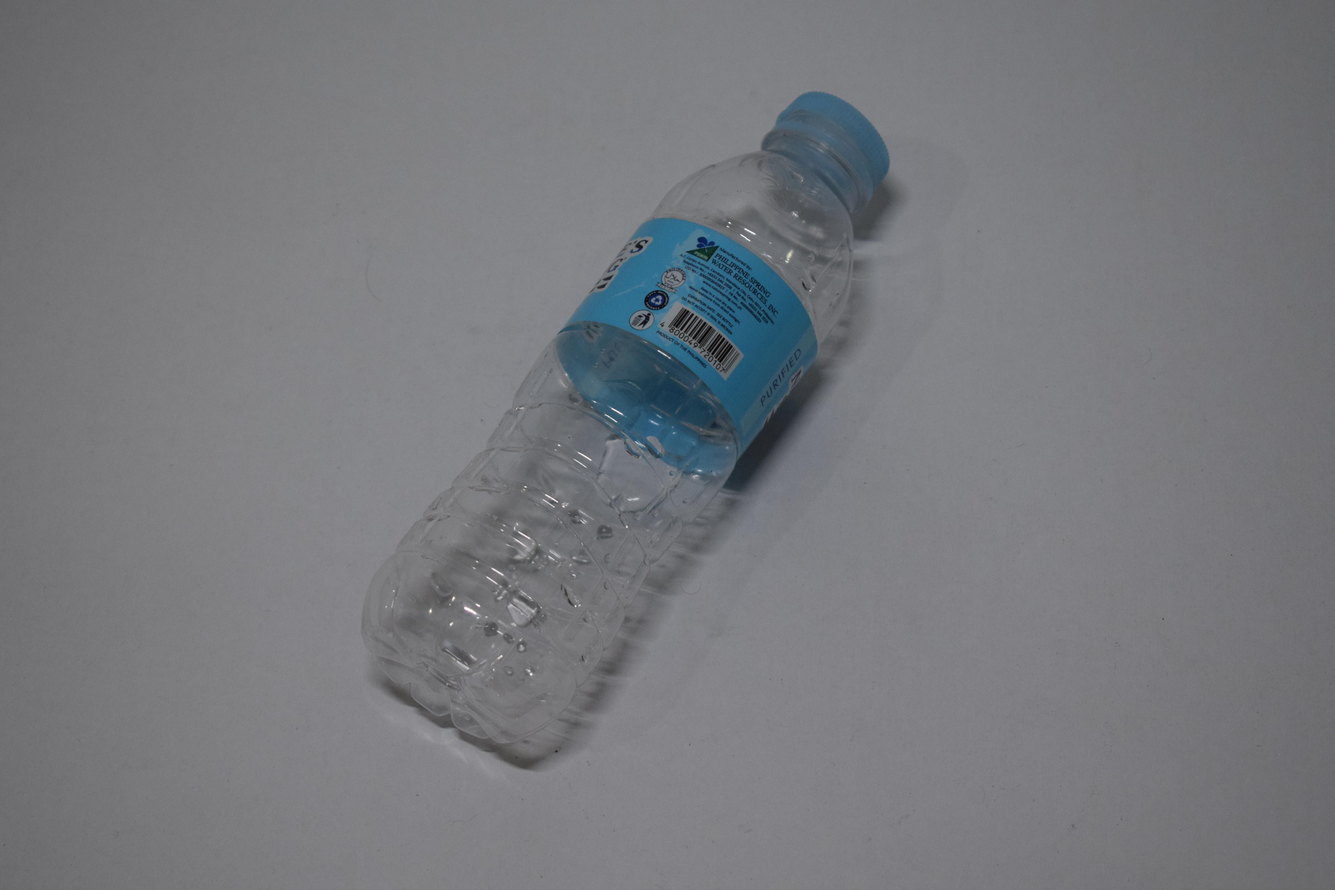plastic: (361, 95, 889, 768)
